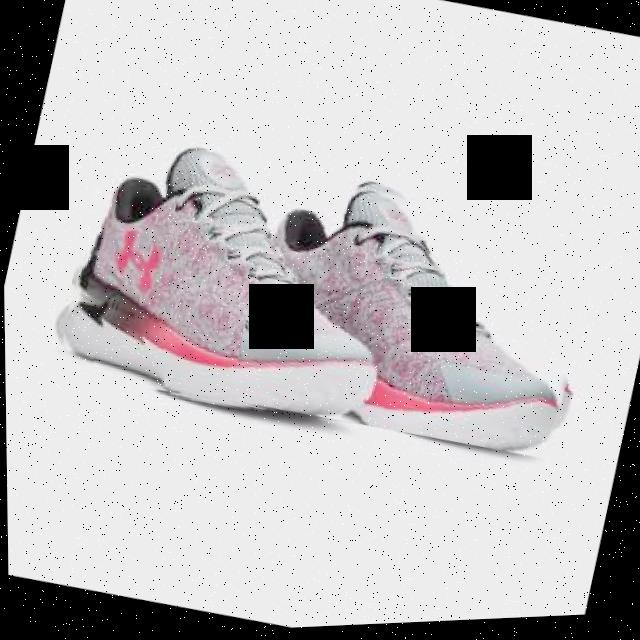shoe: (44, 121, 425, 446), (225, 158, 608, 477)
